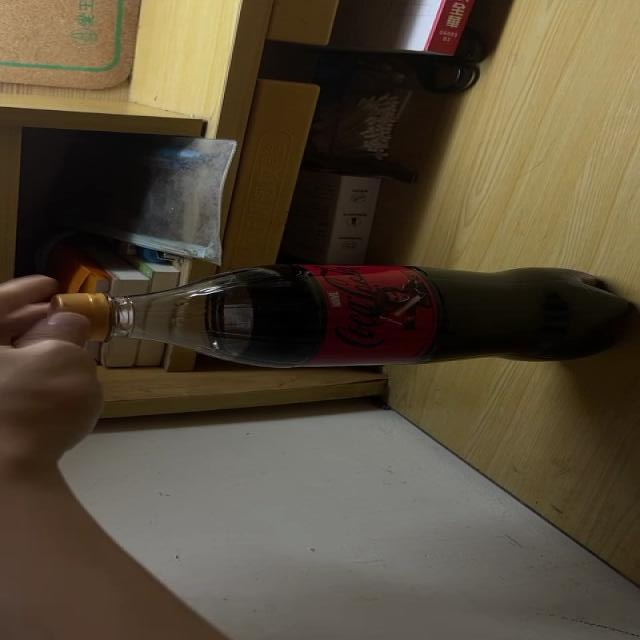Coca-Cola: (46, 263, 638, 368)
